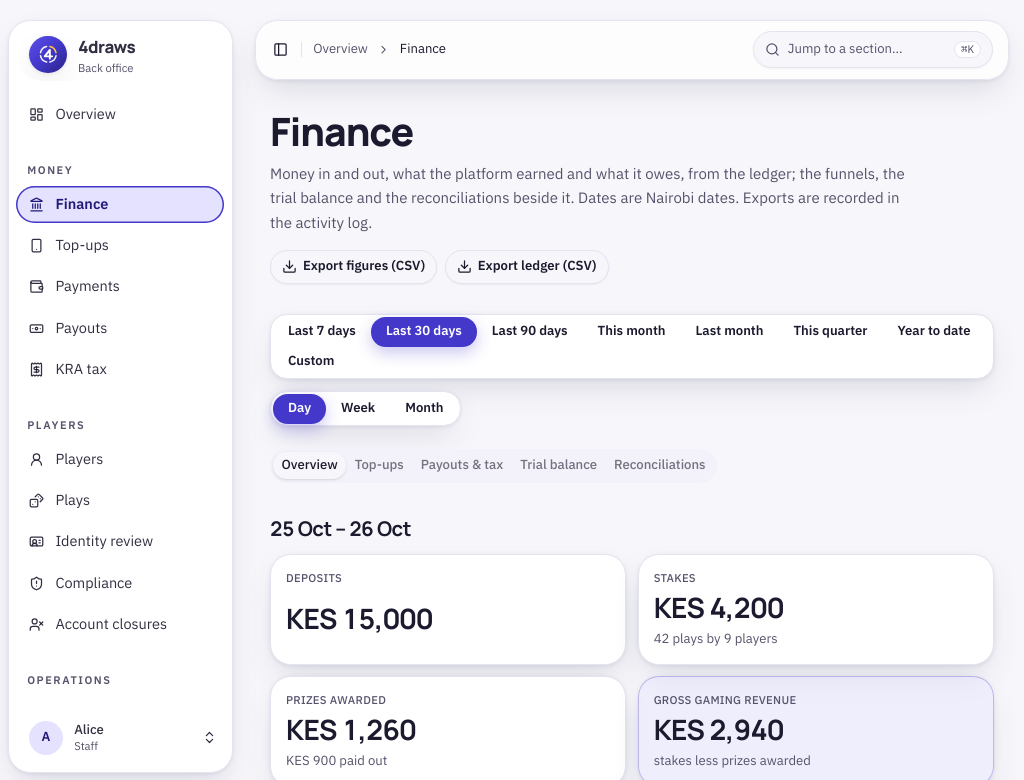
Scenario: finance › exports the figures and the ledger as files, and reports a refused ledger export in words
Expected: the heading "Finance" is shown, left=270, top=104, right=413, bottom=158
What coordinates should you click on to do the following:
click the button "Export figures (CSV)"
I would click on:
 (354, 267)
Its box is left=270, top=250, right=437, bottom=284.
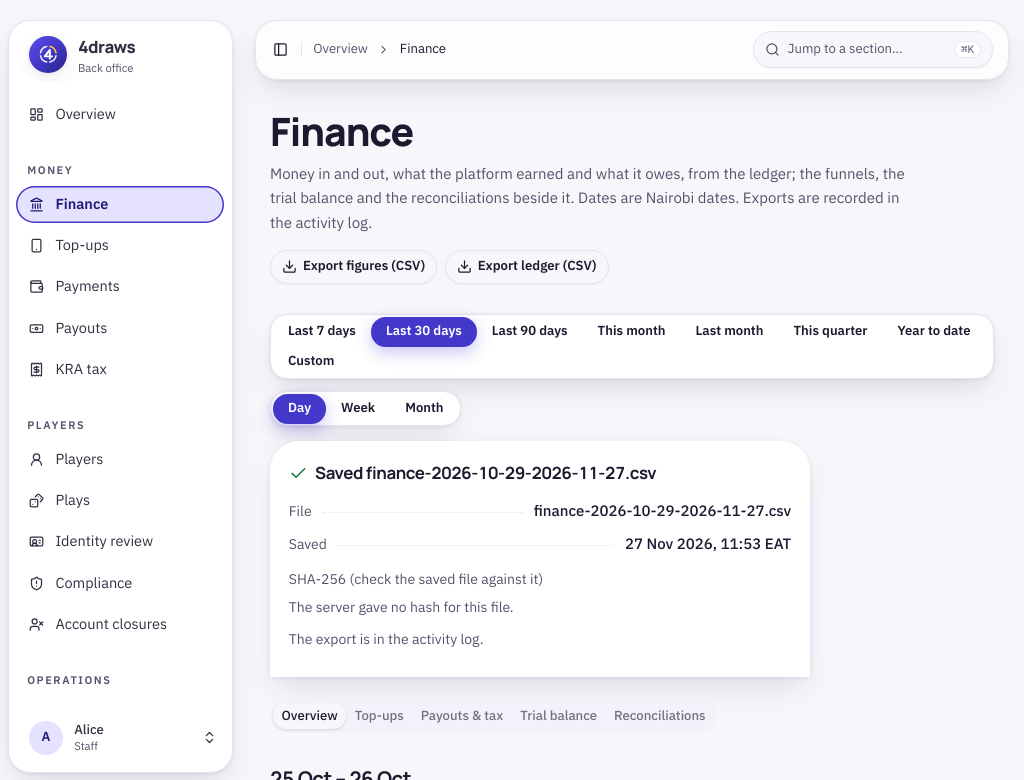
Now the text "SHA-256 (check the saved file against it)" is shown, box left=289, top=570, right=543, bottom=588
What coordinates should you click on to do the following:
click the button "Export ledger (CSV)"
I would click on:
 (527, 267)
Its box is left=445, top=250, right=609, bottom=284.
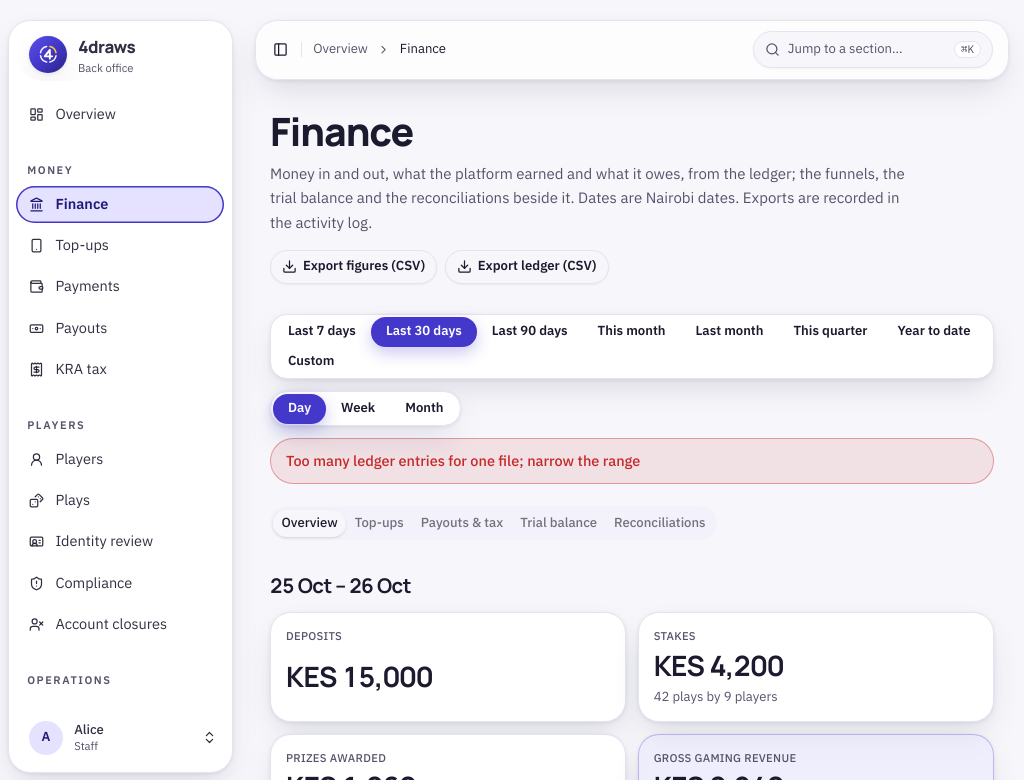
Now the text "Too many ledger entries for one file; narrow the range" is shown, box left=270, top=438, right=994, bottom=484
